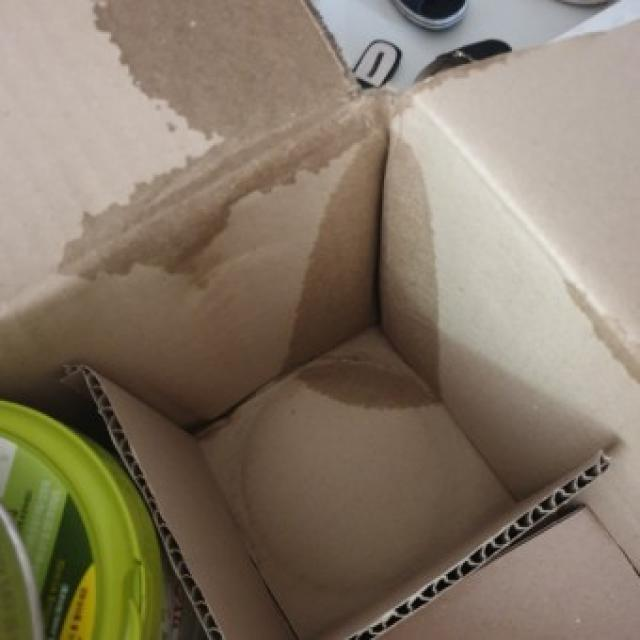wet: (47, 6, 464, 429)
